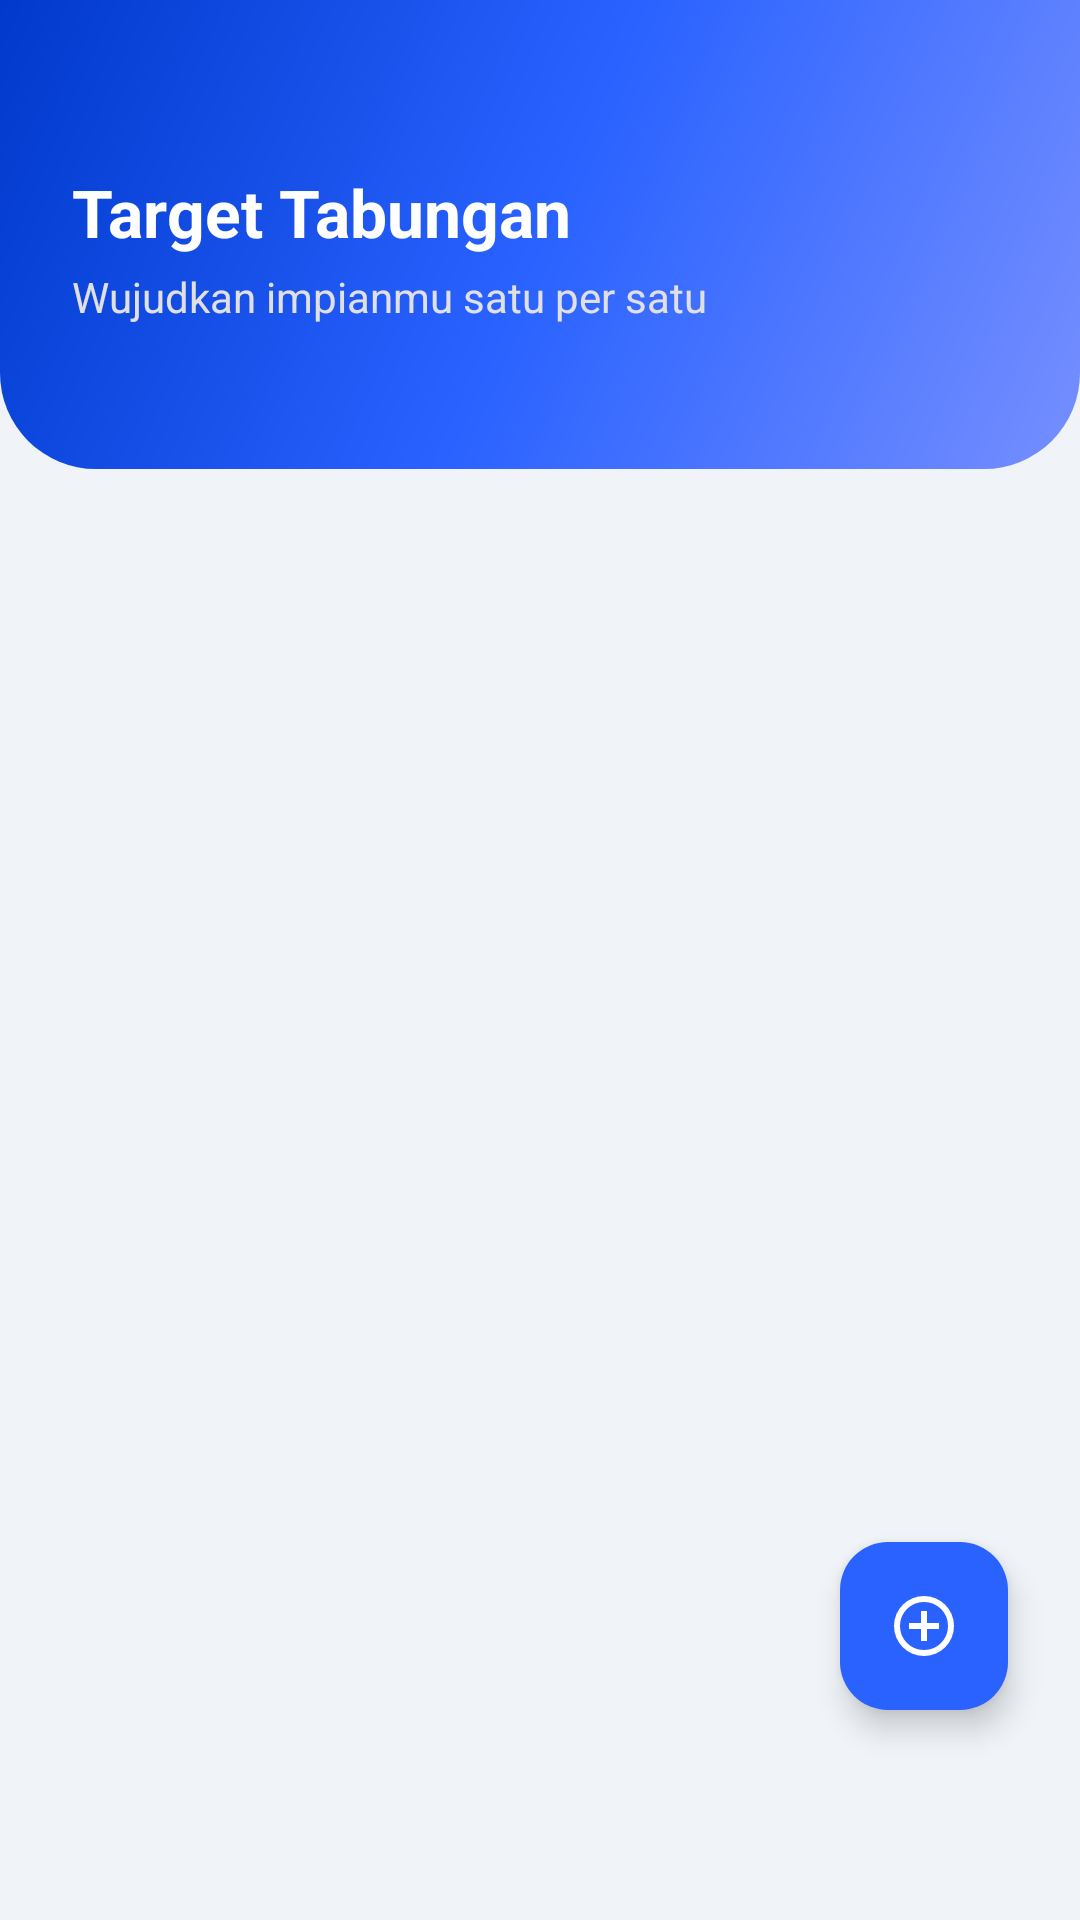

Named icons in this screenshot (1080x1920) and their bounding boxes, Rect(x1, y1, x2, y2):
Target Baru: Rect(840, 1542, 1008, 1710)
